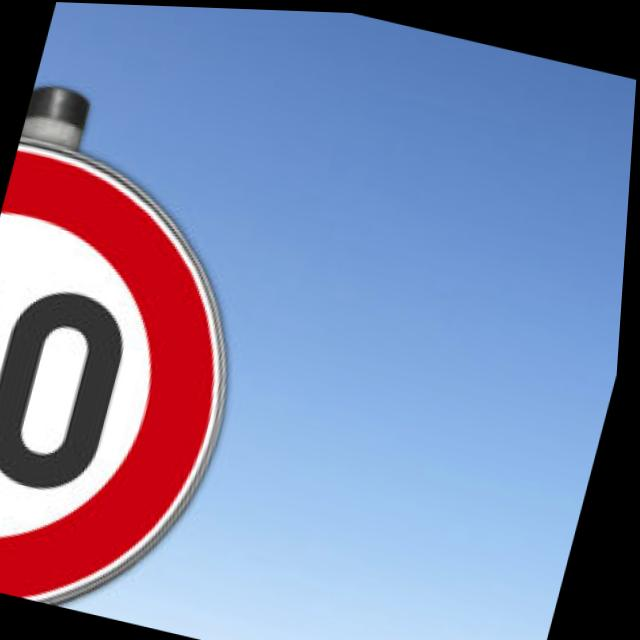Speed Limit -90-: (0, 128, 294, 634)
